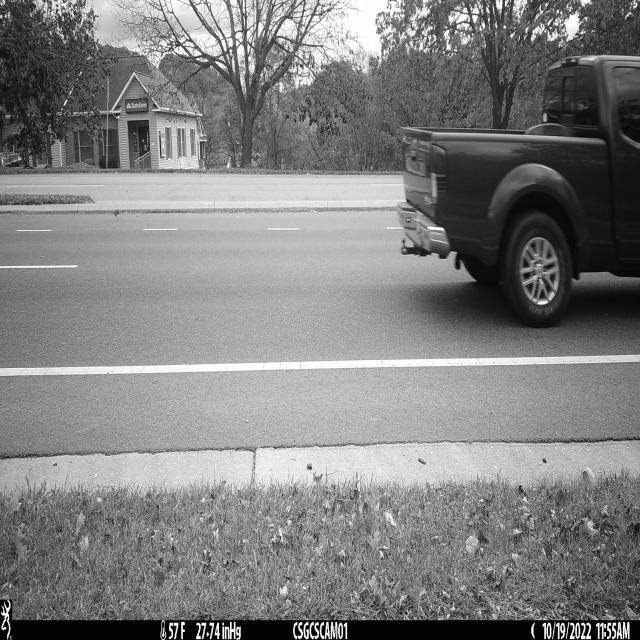Pickup: (397, 56, 640, 330)
